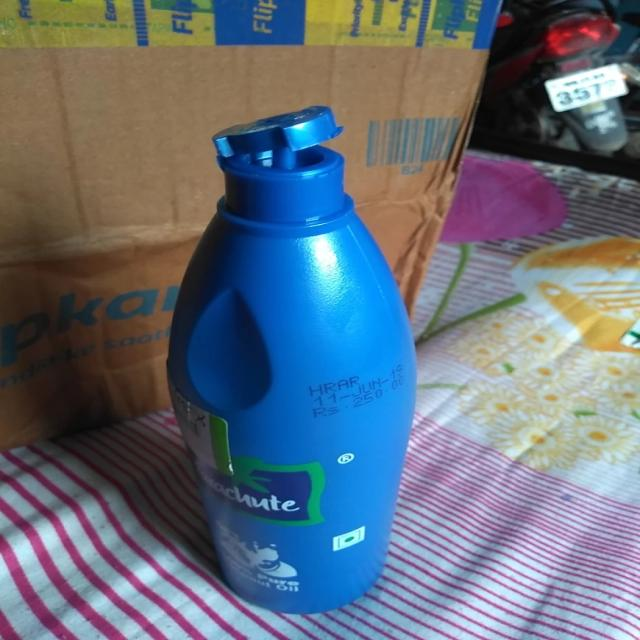parachute_oil: (151, 105, 430, 612)
